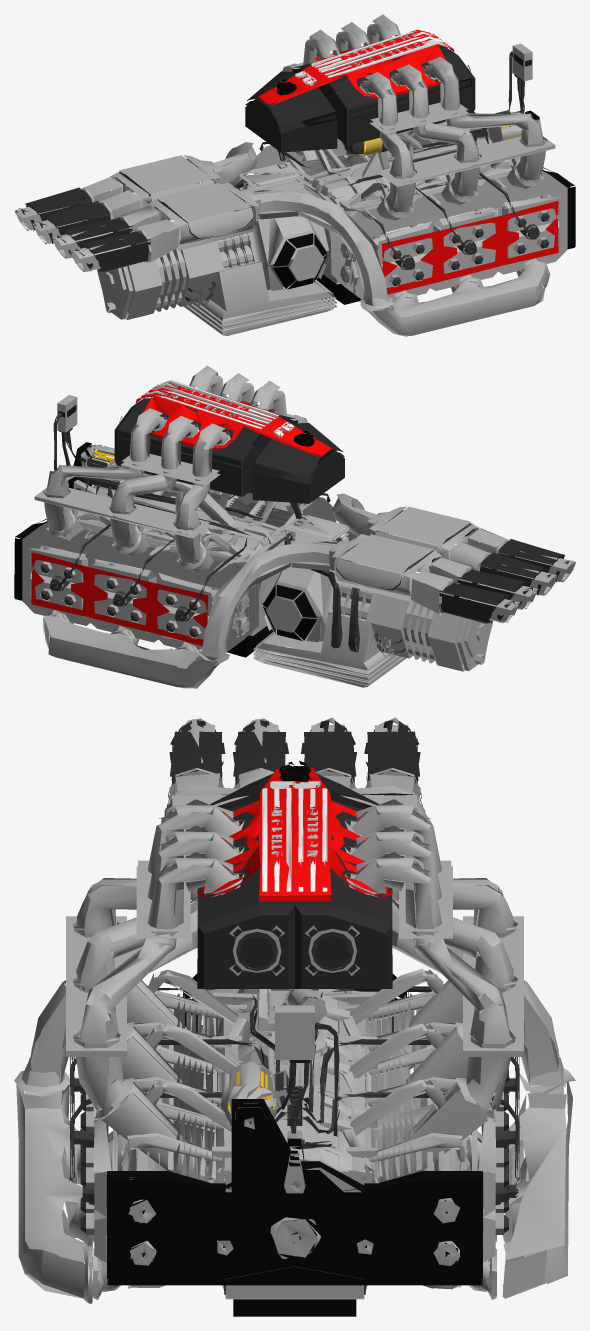
File: eng-f6-30-t.glb
3 views of the same model, one above another, from view 1: azimuth 30°, elevation 25°; view 2: azimuth 150°, elevation 25°; view 3: azimuth 270°, elevation 25° (orthographic). The views are drawn at different scales.
Parts seen in each view (by area): view 1: p0; view 2: p0; view 3: p0.
Boxes of the visible parts, x1=… form: p0: x1=14, y1=14, x2=575, y2=336; p0: x1=14, y1=365, x2=575, y2=688; p0: x1=14, y1=717, x2=575, y2=1316.
Size of the model in its own units: 15.85 by 7.33 by 9.19.
